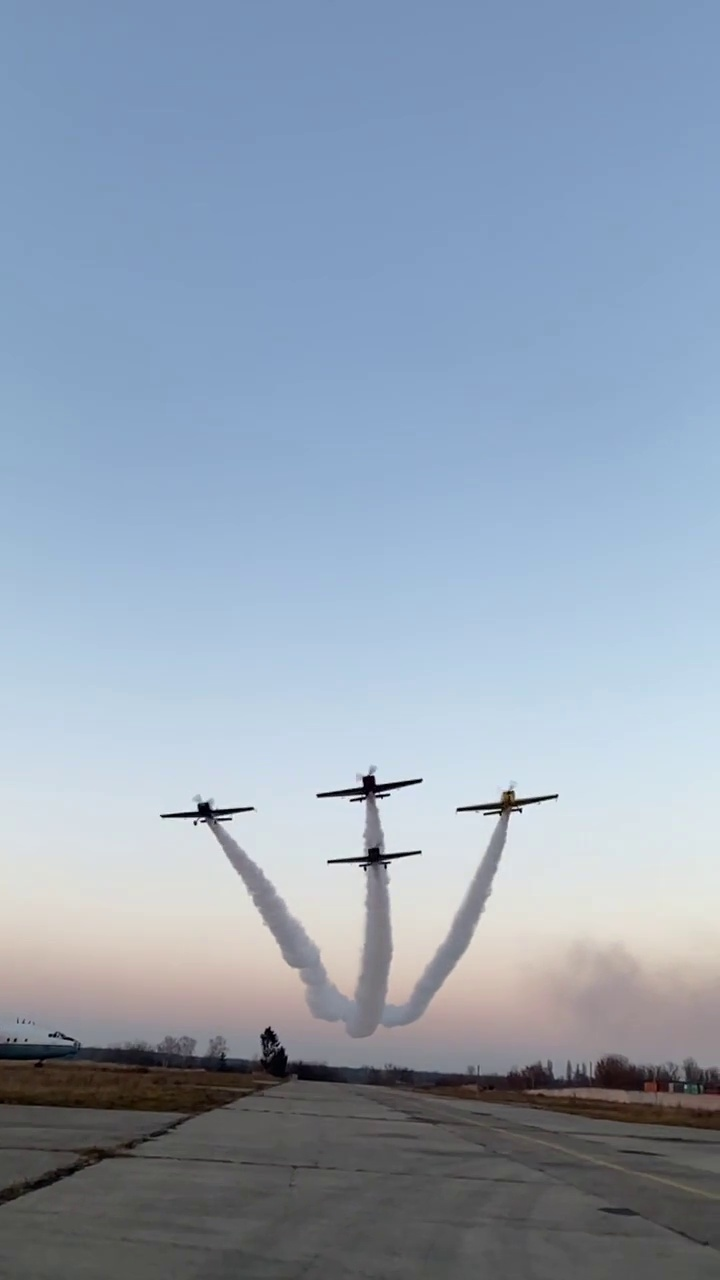plane: (316, 766, 421, 803), (457, 785, 561, 817), (158, 793, 253, 825), (326, 840, 420, 870)
